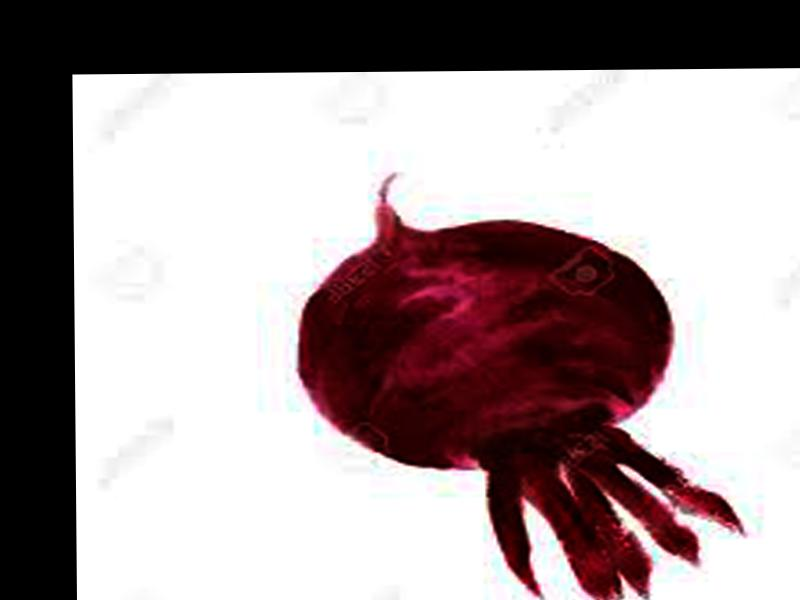Beet: (293, 168, 743, 600)
